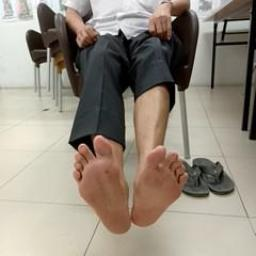Plantar View -Both Feet-: (48, 120, 205, 244)
